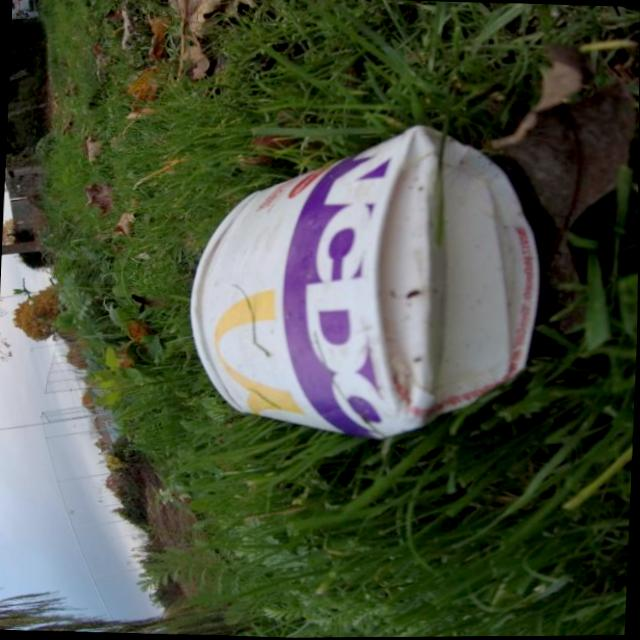Cup: (180, 115, 551, 449)
